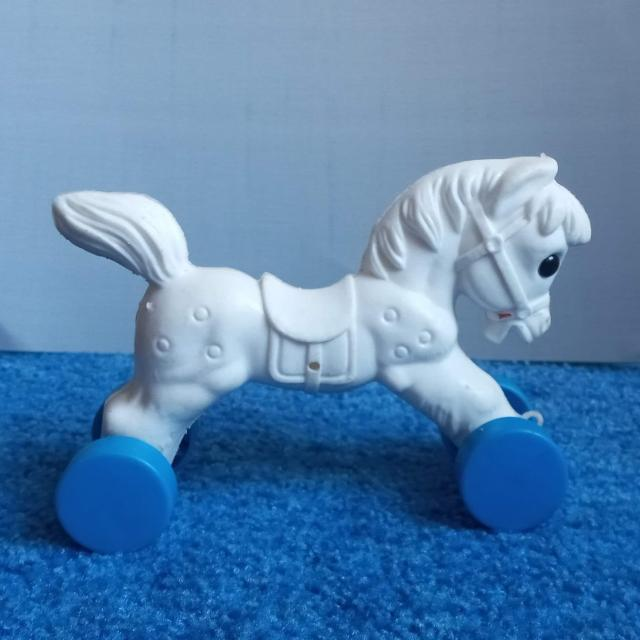hard-toy: (54, 156, 591, 552)
